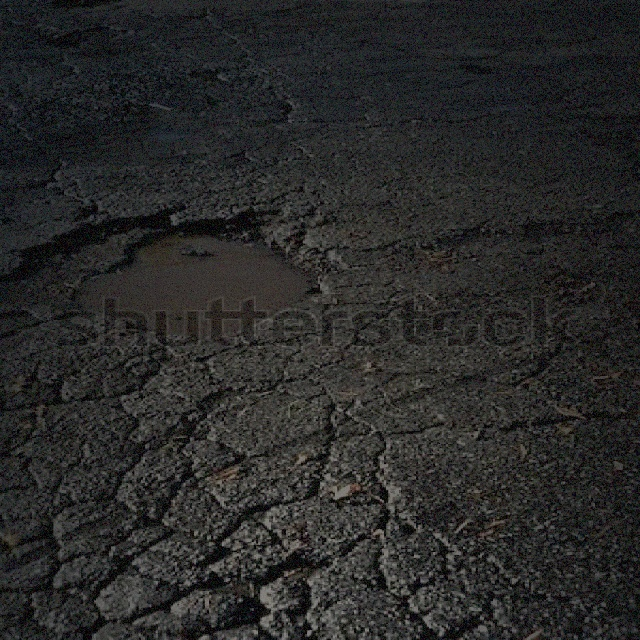pothole: (9, 198, 348, 343), (45, 23, 136, 46), (40, 0, 124, 10)
